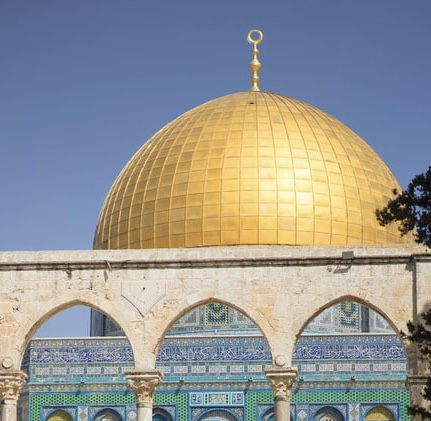Mosque: (10, 15, 423, 408)
